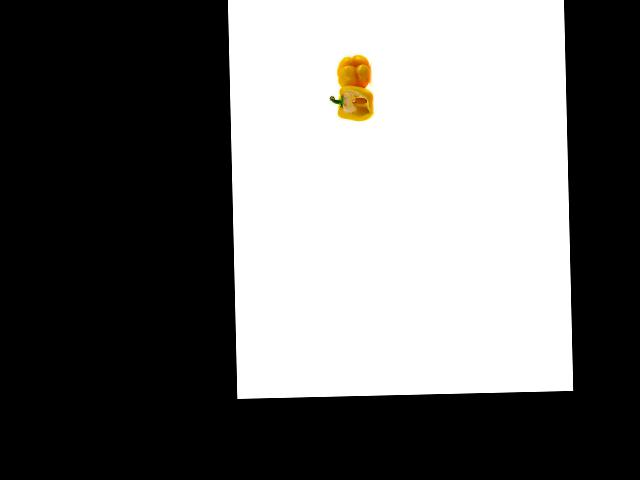bell_pepper: (328, 78, 382, 124)
